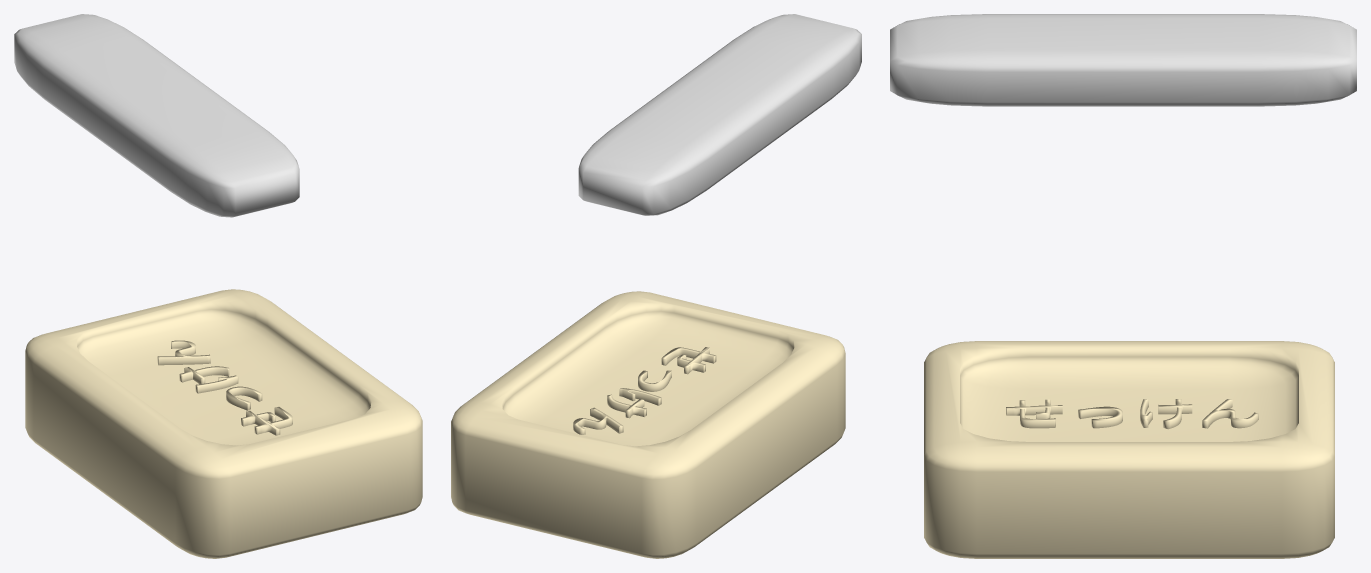
The model's file is sekken.Assets.fbx.
The picture shows the model from 3 angles, left to right: view 1: azimuth 30°, elevation 25°; view 2: azimuth 150°, elevation 25°; view 3: azimuth 270°, elevation 25°; orthographic projection. The views are drawn at different scales.
Parts seen in each view (by area): view 1: 立方体.001, 立方体, テキスト; view 2: 立方体.001, 立方体, テキスト; view 3: 立方体.001, 立方体, テキスト.
Part boxes in pixels (x1,y1,x2,y2): 立方体.001: (25,289,422,558); 立方体: (14,14,299,217); テキスト: (157,340,292,435); 立方体.001: (451,291,845,558); 立方体: (578,14,861,215); テキスト: (573,347,716,434); 立方体.001: (924,341,1334,558); 立方体: (890,14,1356,106); テキスト: (1006,399,1258,429).
Size of the model in its own units: 103 by 164 by 160.
